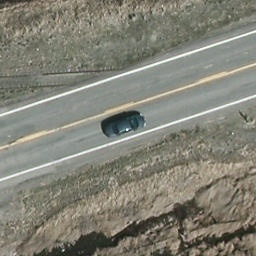car: (103, 113, 148, 138)
